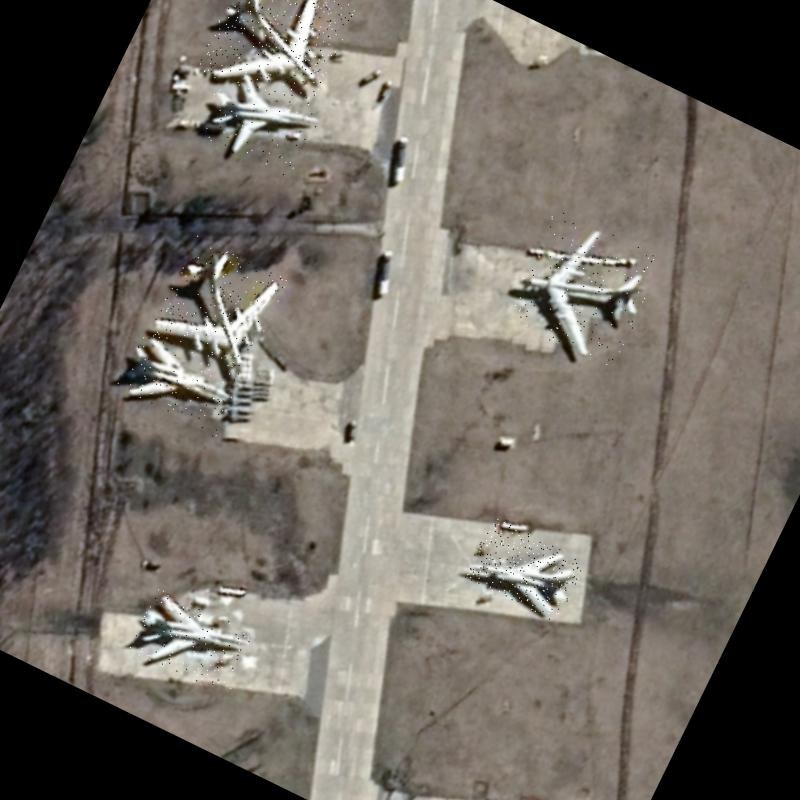A12: (194, 60, 327, 182), (127, 586, 256, 698), (113, 328, 244, 438), (462, 516, 586, 623)
A17: (501, 206, 666, 370), (148, 235, 290, 378), (194, 0, 358, 121)
